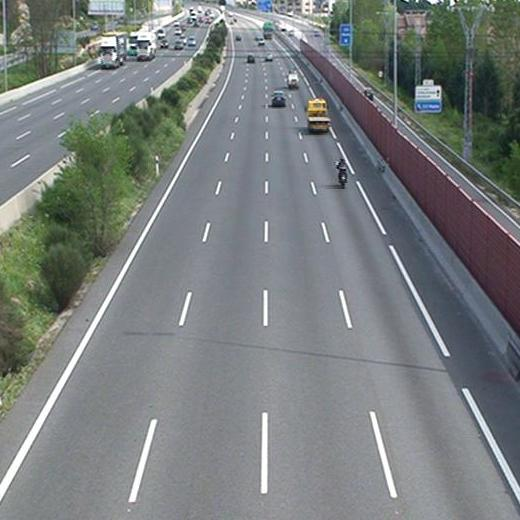car: (269, 91, 287, 107), (264, 51, 275, 61), (246, 54, 256, 63)
motorcycle: (336, 157, 348, 186)
small-truck: (305, 98, 331, 134)
van: (286, 74, 300, 88)
